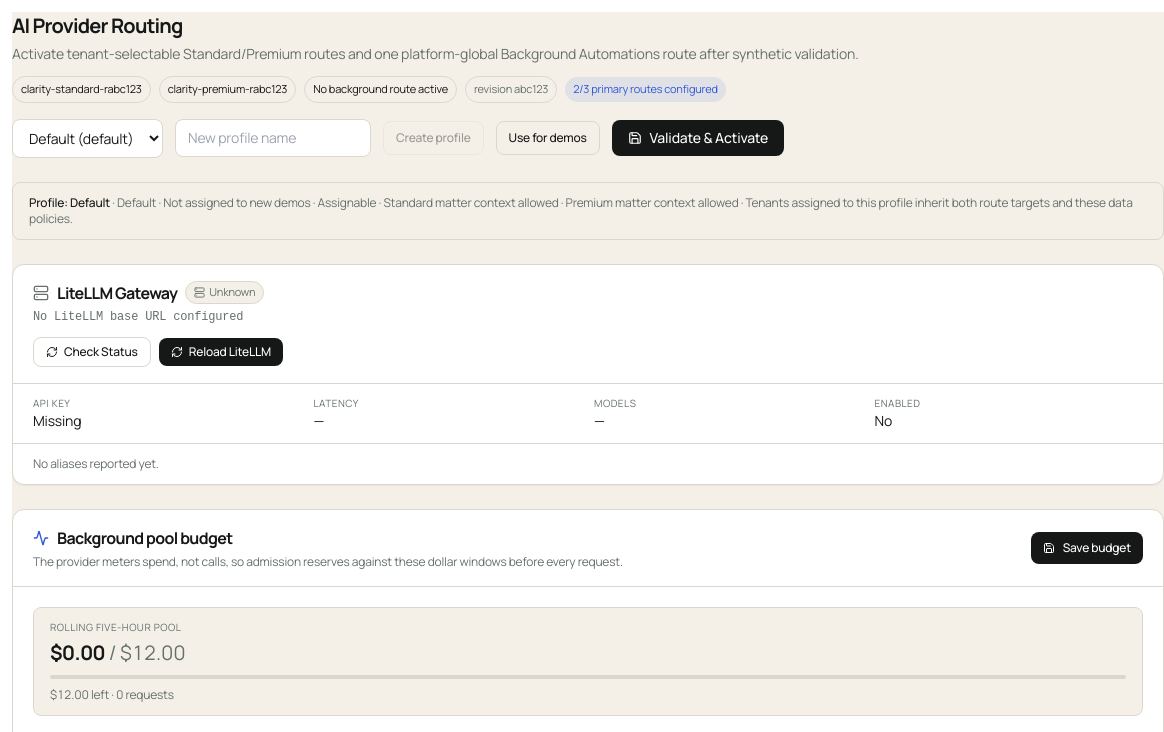
Test case: platform AI routing › assigns an approved matter-aware profile to new demo workspaces
Click the button "Use for demos" at (548, 138), box [496,121,600,155]
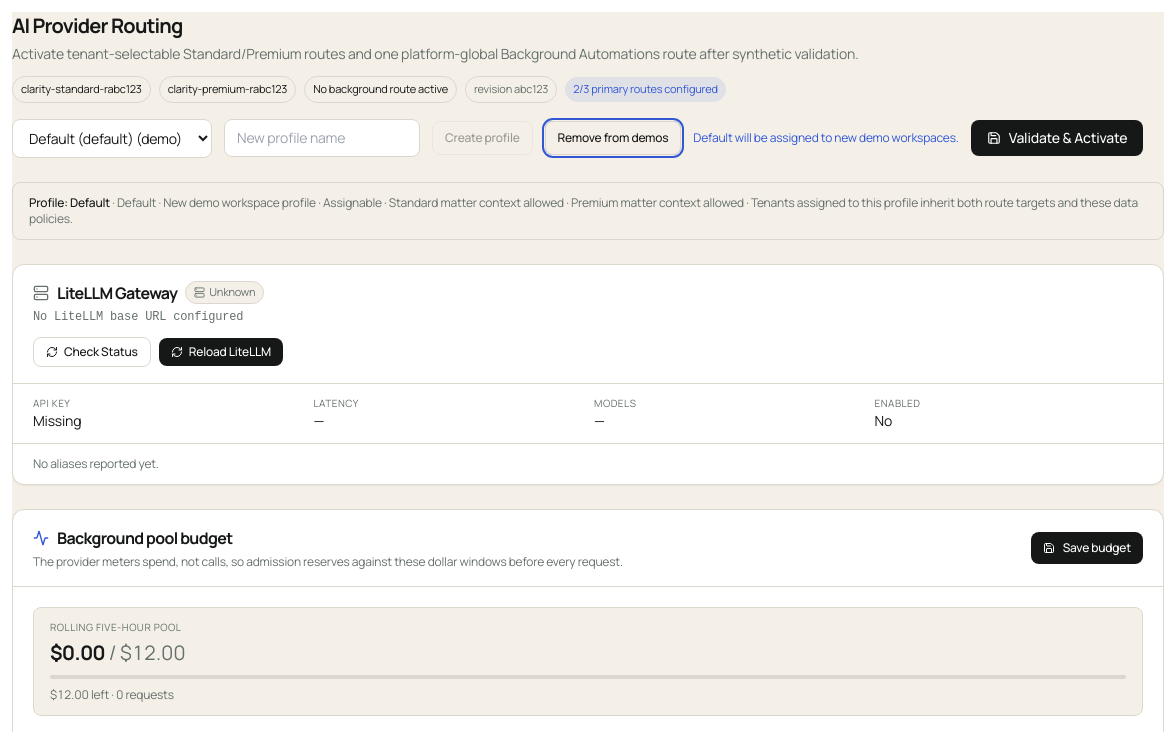
Result: the text "Default will be assigned to new demo workspaces." is shown at [693,130,959,146]
